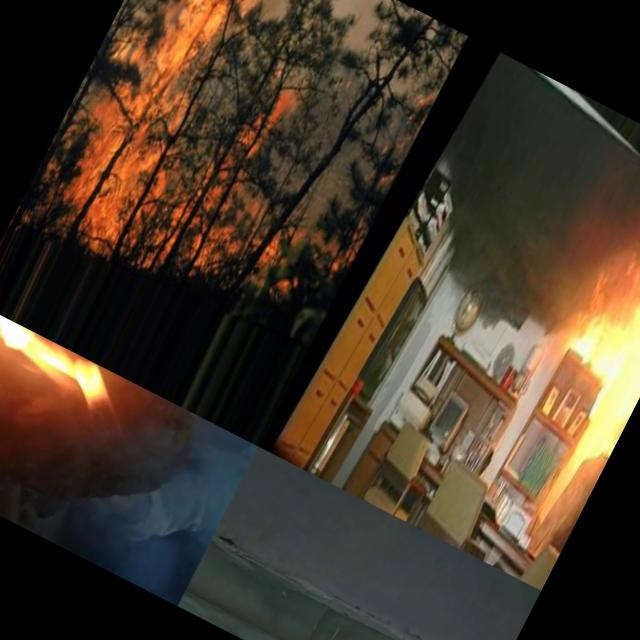fire: (55, 0, 294, 192), (0, 340, 168, 560), (534, 201, 640, 447)
smoke: (515, 426, 615, 563)
